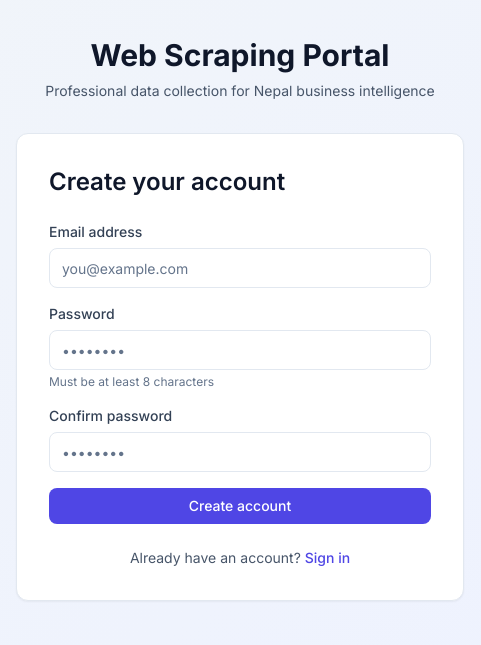
Test: RegisterPage › Form Validation - Empty Fields › shows error when email is empty
Click the button "Create account". click: point(240, 506)
box: [49, 488, 431, 524]
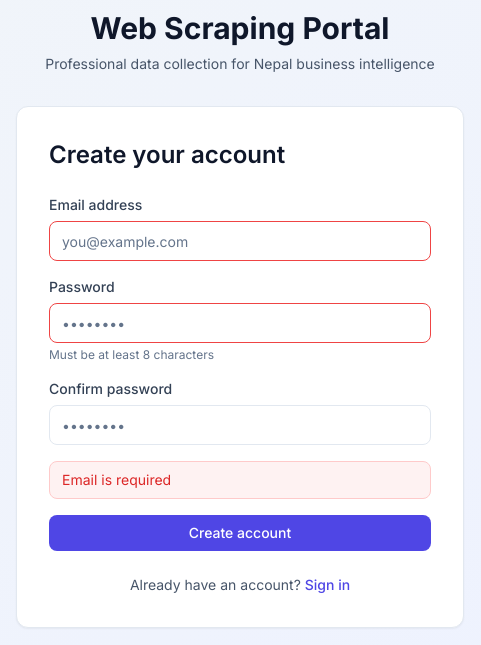
Expected: the text "Email is required" is shown, [49, 461, 431, 499]
